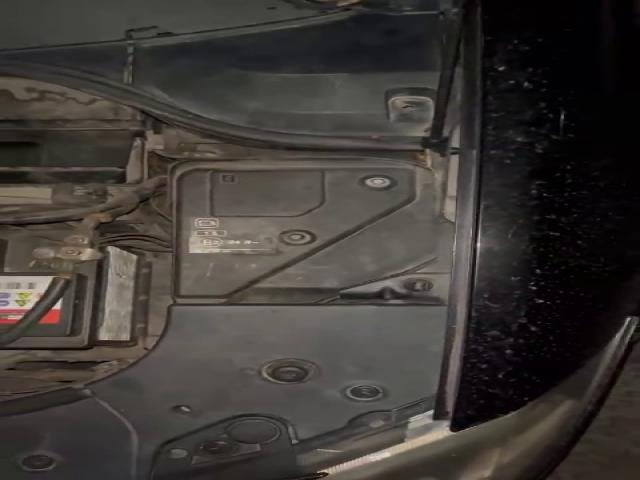accumulator: (0, 229, 146, 351)
fuse_box: (170, 157, 443, 303)
